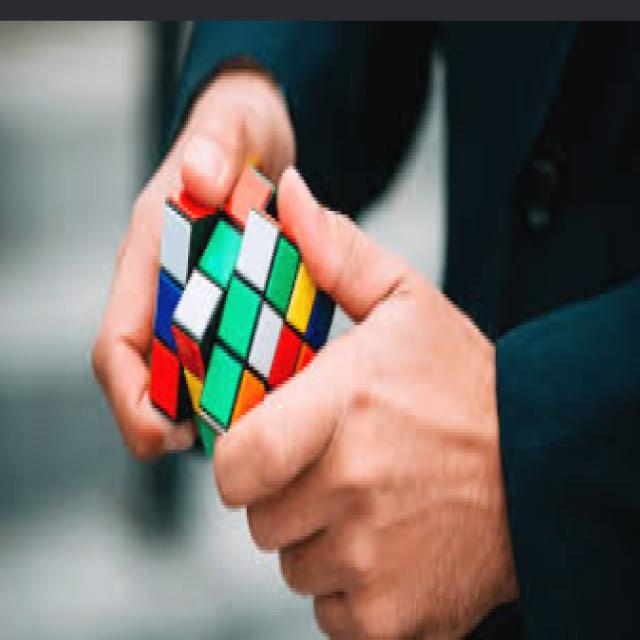Cubo-No-resuelto: (150, 166, 332, 453)
